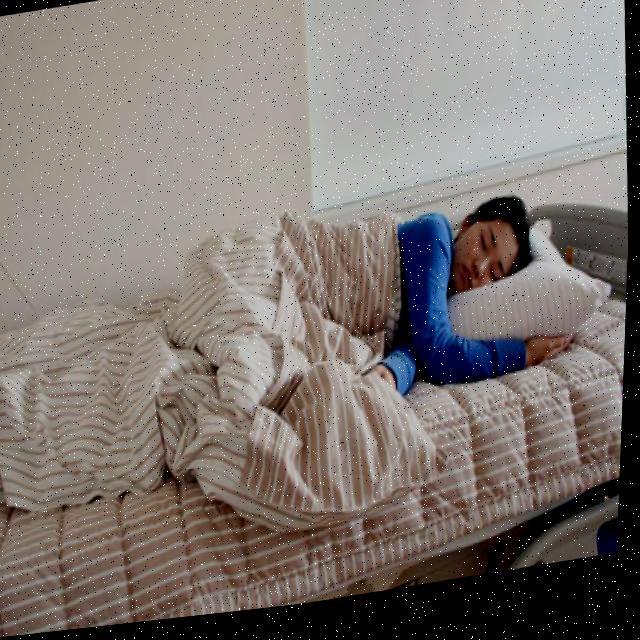sleeping-person: (0, 156, 613, 513)
